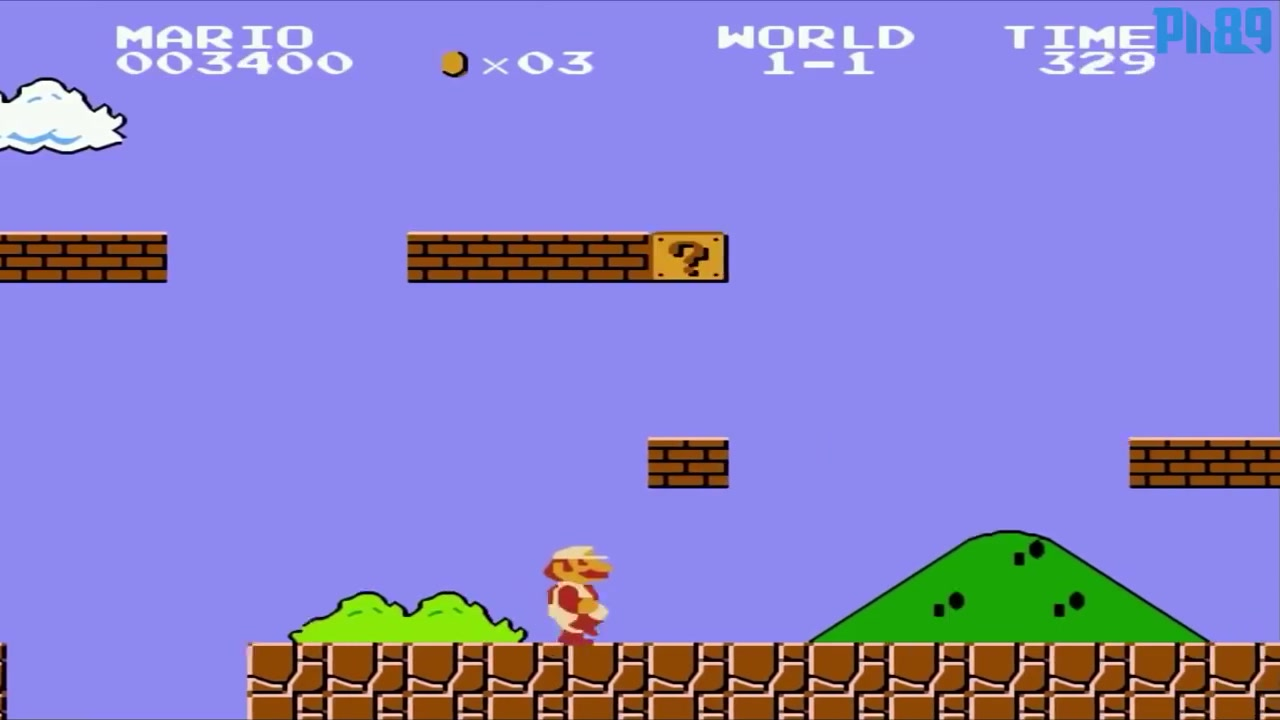mario: (533, 545, 620, 657)
